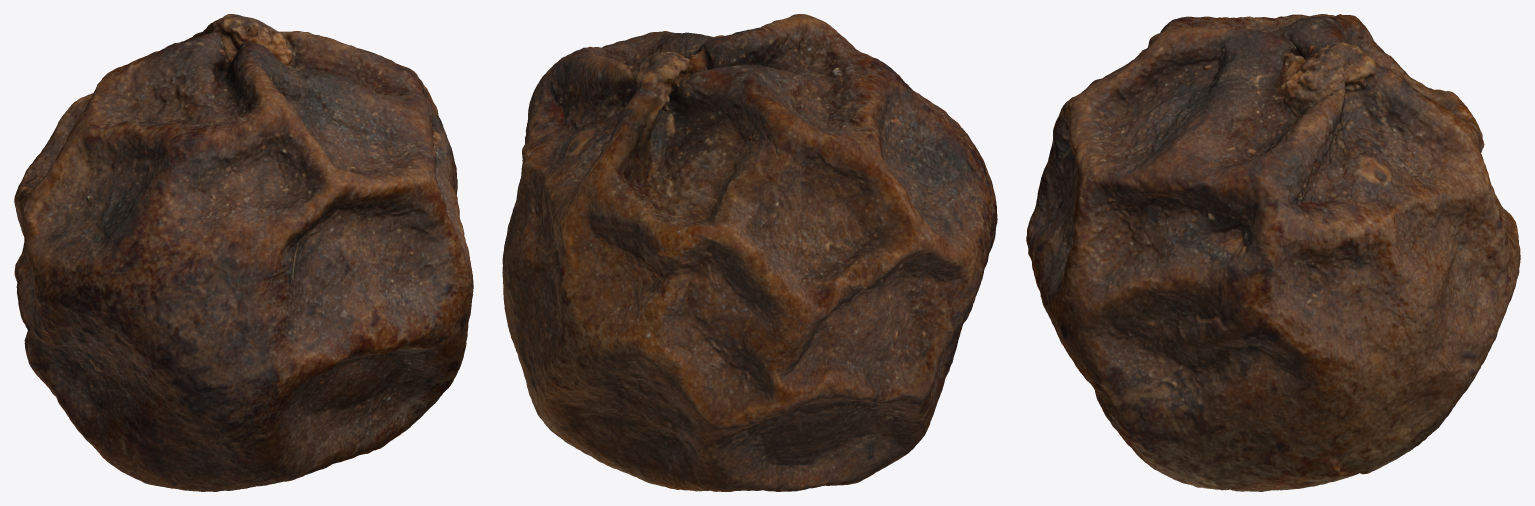
The model's file is peppercorn-real-scan.glb.
3 renders of one model, left to right at view 1: azimuth 30°, elevation 25°; view 2: azimuth 150°, elevation 25°; view 3: azimuth 270°, elevation 25°, orthographic. The views are drawn at different scales.
Parts seen in each view (by area): view 1: Model; view 2: Model; view 3: Model.
Part boxes in pixels (x1,y1,x2,y2): Model: (14,14,473,491); Model: (502,14,997,491); Model: (1026,14,1520,491).
Size of the model in its own units: 0.8978 by 0.8588 by 0.8786.
1 material, 1 textured.
